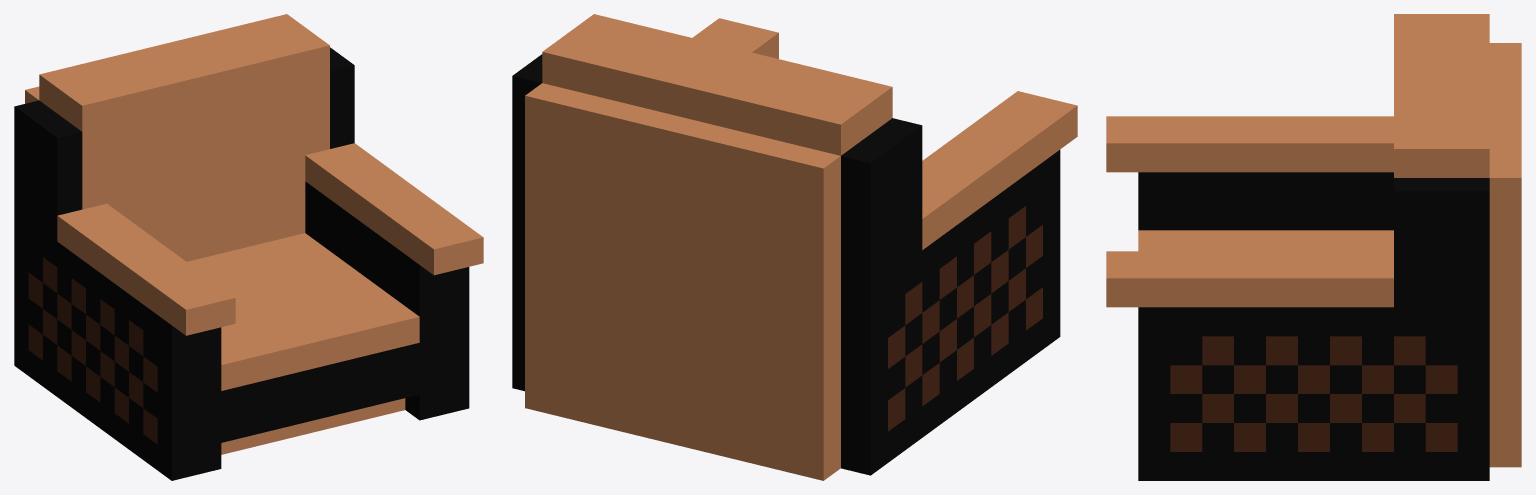
File: Armchair2.obj
3 renders of one model, left to right at view 1: azimuth 30°, elevation 25°; view 2: azimuth 150°, elevation 25°; view 3: azimuth 270°, elevation 25°, orthographic. The views are drawn at different scales.
Size of the model in its own units: 1.2 by 1.1 by 1.3.
Materials: 1 (1 with a texture image).
